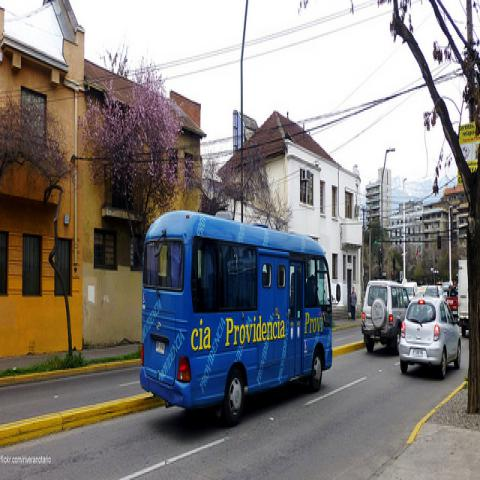bus: (139, 208, 334, 426)
car: (400, 296, 462, 381), (362, 282, 410, 354), (445, 284, 459, 326), (423, 285, 440, 299)
truck: (458, 259, 469, 337)
